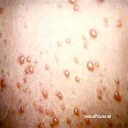Chickenpox: (12, 51, 40, 94), (42, 103, 89, 128), (81, 60, 104, 73)
